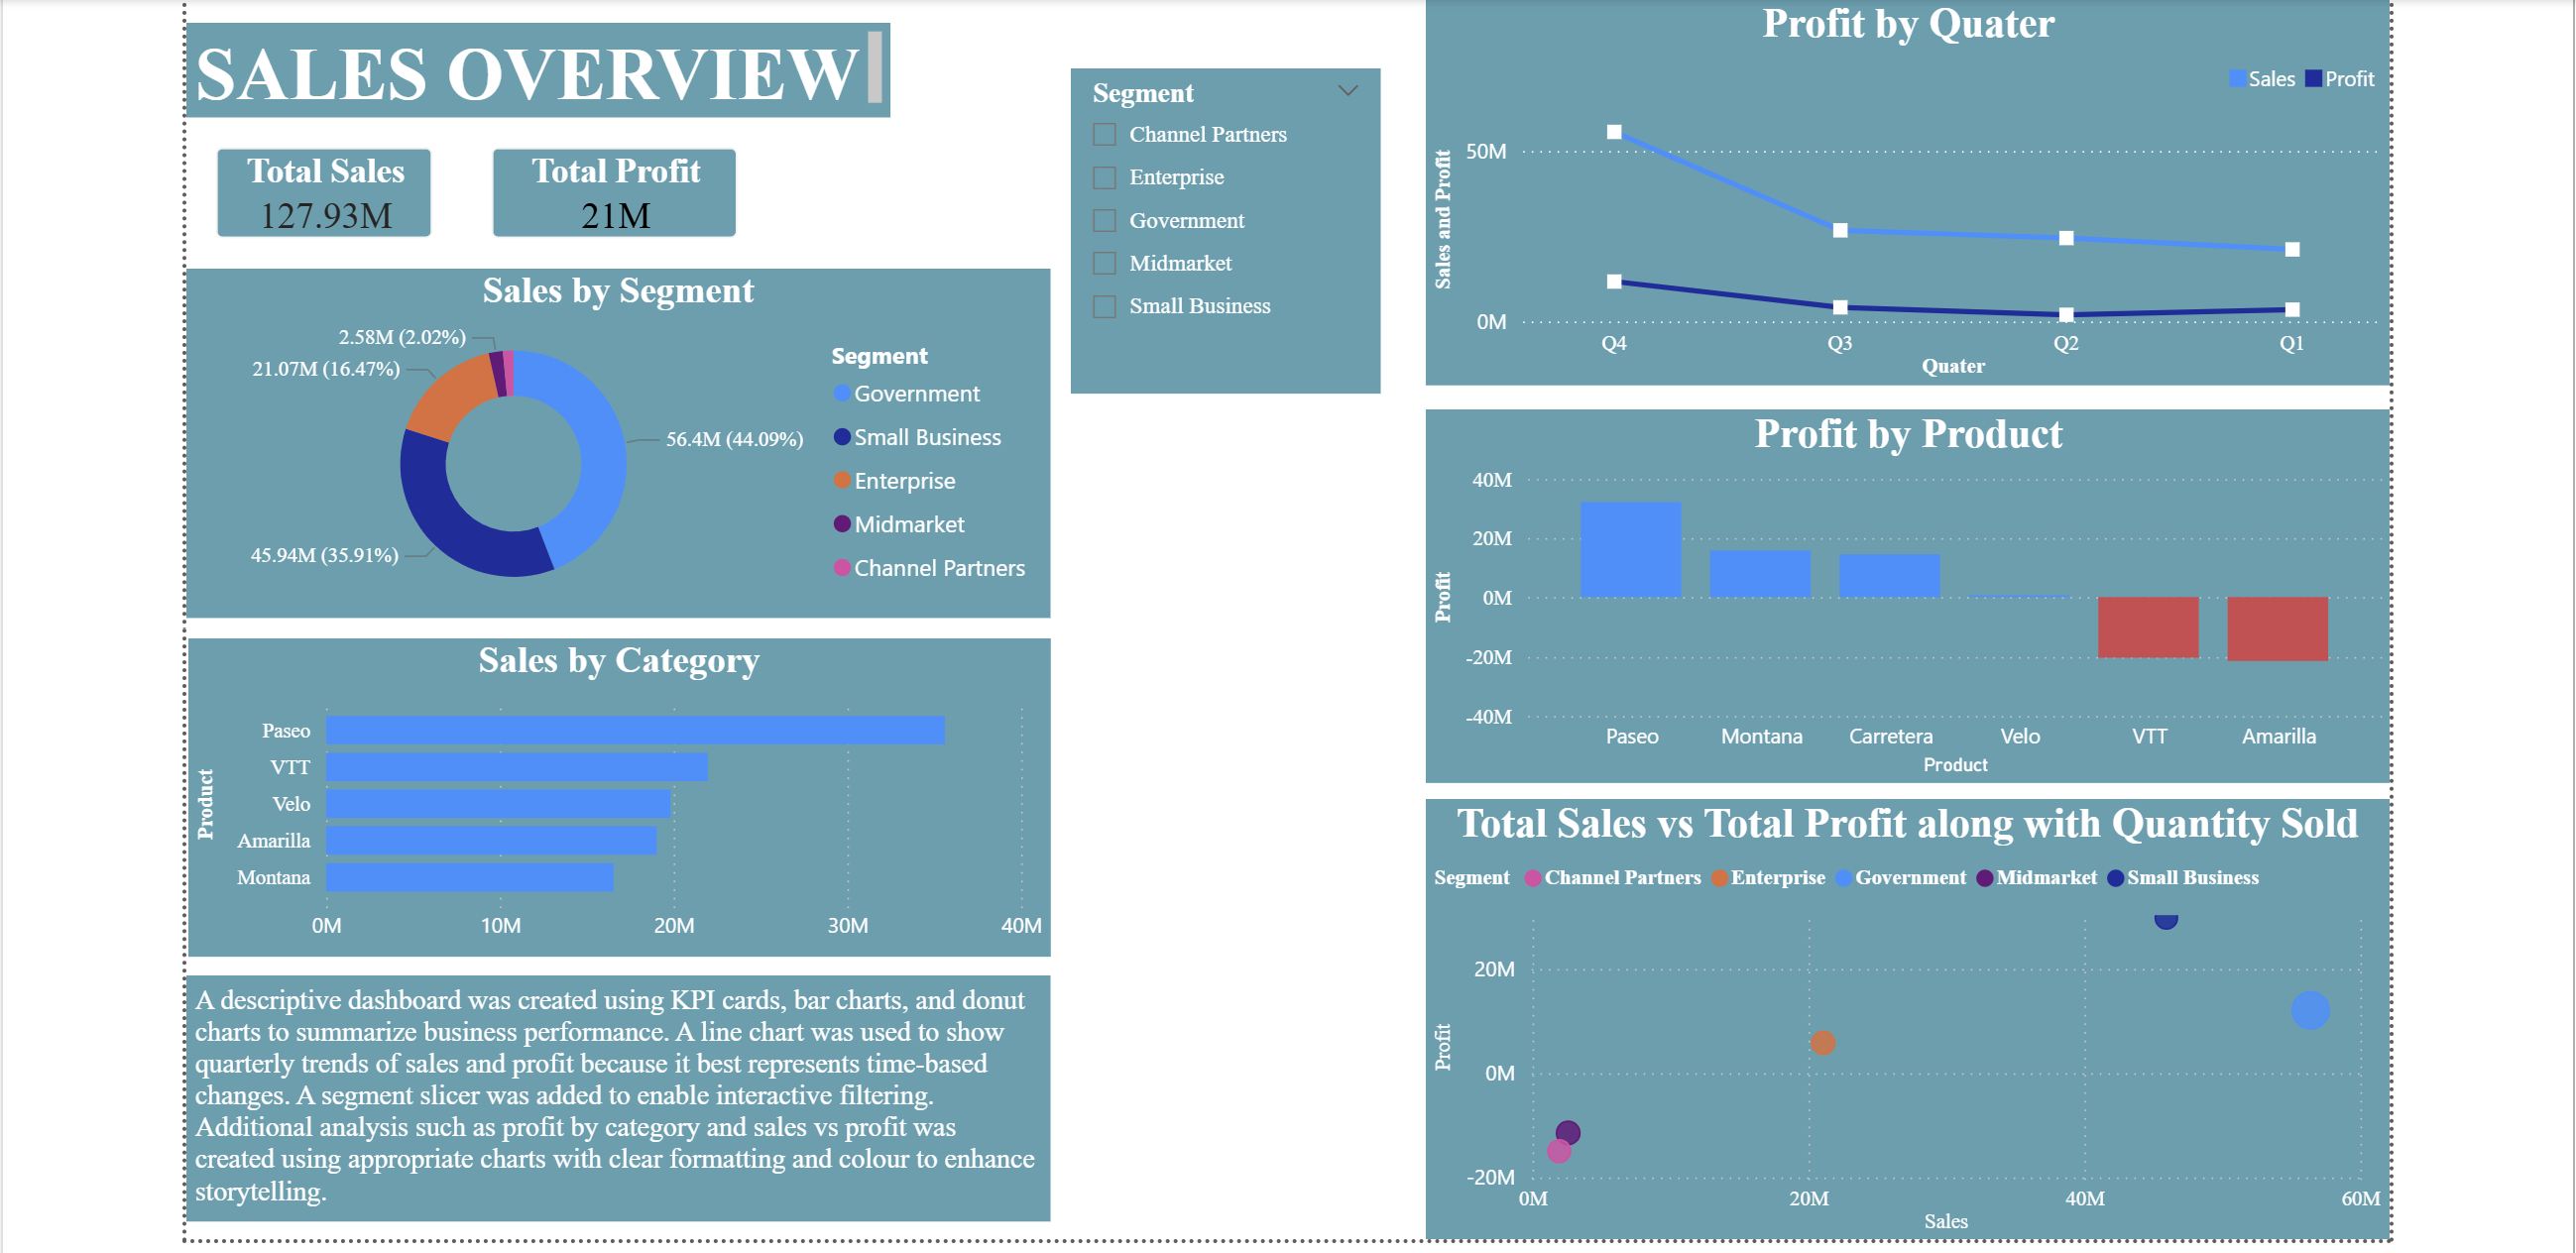

What the dashboard file says about the page in this screenshot:
{"tool":"powerbi","page":{"name":"KPI DASHBOARD","canvas":[1280,720],"ordinal":0},"visuals":[{"type":"cardVisual","fields":{"Data":["Sum(Facts.Sales)"]},"box":[0,69.1,160.1,87.6],"z":0},{"type":"cardVisual","fields":{"Data":["Sum(Facts.Profit)"]},"box":[160.1,69.1,177.4,87.6],"z":1000},{"type":"donutChart","title":"Sales by Segment","fields":{"Category":["Dimensions.Segment"],"Y":["Sum(Facts.Sales)"]},"box":[0,157.1,502,203.1],"z":2000},{"type":"clusteredBarChart","title":"Sales by Category","fields":{"Category":["Dimensions.Product"],"Y":["Sum(Facts.Sales)"]},"box":[1.3,370.5,500.8,185.2],"z":3000},{"type":"textbox","box":[0,14.1,408.8,54.9],"z":4000},{"type":"lineChart","title":"Profit by Quater","fields":{"Category":["Dimensions.Quater"],"Y":["Sum(Facts.Sales)","Sum(Facts.Profit)"]},"box":[720,0,561,224.6],"z":5000},{"type":"slicer","fields":{"Values":["Dimensions.Segment"]},"box":[513.5,40.9,180.1,189.1],"z":6000},{"type":"clusteredColumnChart","title":"Profit by Product","fields":{"Category":["Dimensions.Product"],"Y":["Sum(Facts.Profit)"]},"box":[720,238.5,561,216.6],"z":7000},{"type":"scatterChart","title":"Total Sales vs Total Profit along with Quantity Sold","fields":{"X":["Sum(Facts.Sales)"],"Y":["Sum(Facts.Profit)"],"Size":["Sum(Facts.Units Sold)"],"Series":["Dimensions.Segment"]},"box":[720,464.3,559.9,256.9],"z":8000},{"type":"textbox","box":[0,567.2,502,143.1],"z":9000}]}

Visuals, with their boxes in screenshot pixels (x1, y1, x2, y2):
cardVisual - Sum(Facts.Sales): BBox(181, 112, 456, 263)
cardVisual - Sum(Facts.Profit): BBox(456, 112, 761, 263)
"Sales by Segment" donutChart: BBox(181, 263, 1044, 612)
"Sales by Category" clusteredBarChart: BBox(183, 629, 1044, 948)
textbox: BBox(181, 18, 883, 112)
"Profit by Quater" lineChart: BBox(1418, 0, 2383, 379)
slicer - Dimensions.Segment: BBox(1064, 63, 1373, 389)
"Profit by Product" clusteredColumnChart: BBox(1418, 403, 2383, 775)
"Total Sales vs Total Profit along with Quantity Sold" scatterChart: BBox(1418, 791, 2381, 1232)
textbox: BBox(181, 968, 1044, 1213)
